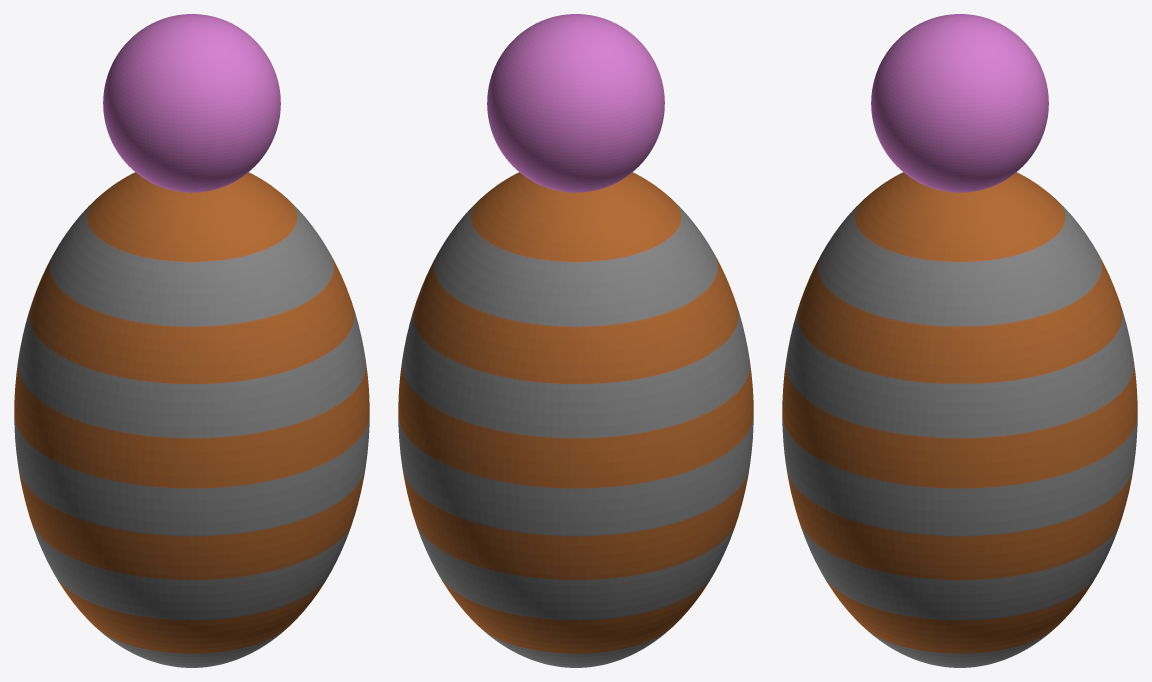
Rendered from BOD2_BMC3_BCC0_BPT2_FRC0_HEA0_HMC10_HCC0_HPT0_ELT0_ERT0_ELL0_ERL0_AP0_AAL0_AAR0_BEK0.fbx.
3 views of the same model, side by side, from view 1: azimuth 30°, elevation 25°; view 2: azimuth 150°, elevation 25°; view 3: azimuth 270°, elevation 25° (orthographic).
Parts seen in each view (by area): view 1: Body, Head; view 2: Body, Head; view 3: Body, Head.
Boxes of the visible parts, <box> form: Body: <box>14,172,369,667</box>; Head: <box>103,14,280,192</box>; Body: <box>398,172,753,667</box>; Head: <box>487,14,664,192</box>; Body: <box>782,172,1137,667</box>; Head: <box>871,14,1048,192</box>.
Bounding box in the file's own units: 98.72 × 195 × 98.72.
2 materials, 2 textured.
